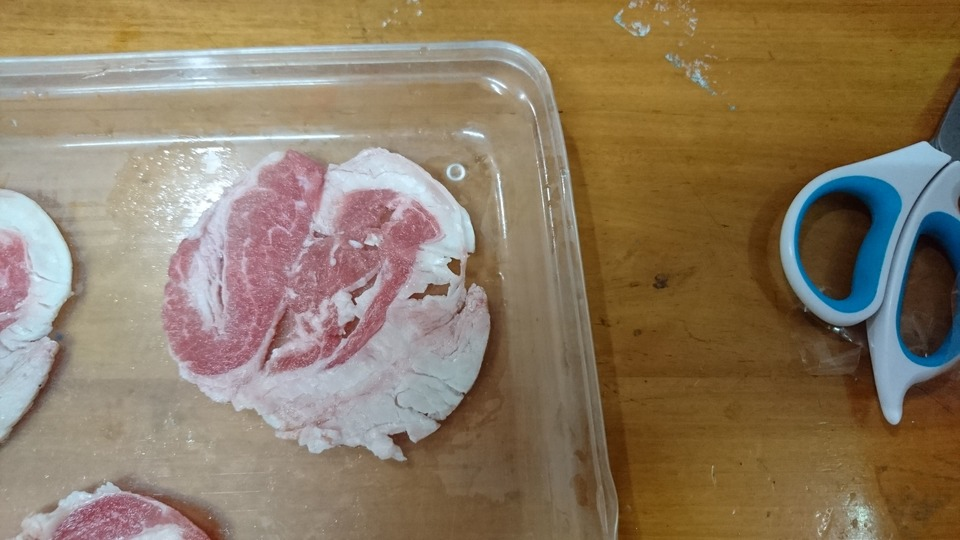restructured meat: (156, 142, 493, 469)
